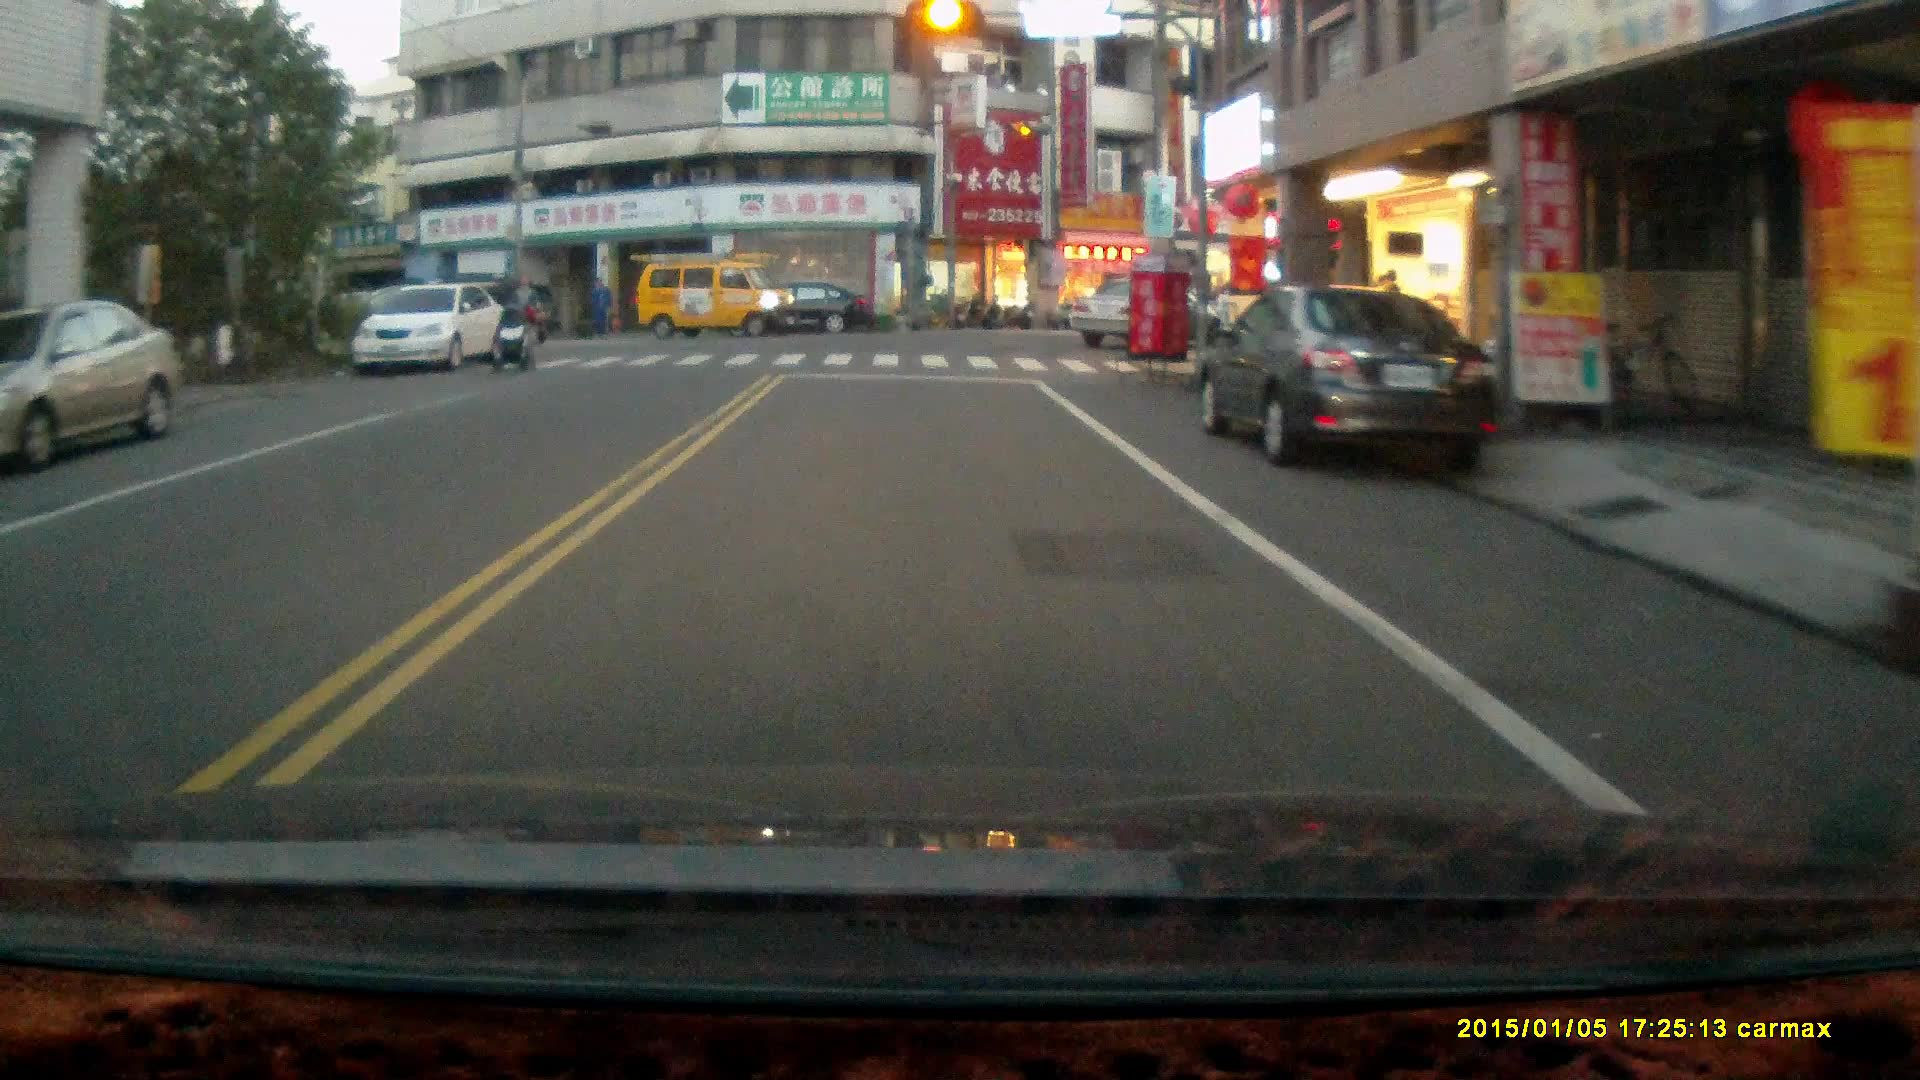pedestrian: (508, 270, 538, 353), (587, 275, 610, 335)
rider: (488, 304, 542, 375)
vehicle: (1196, 285, 1504, 476), (1, 300, 186, 478), (355, 283, 507, 378), (635, 252, 802, 337), (1063, 276, 1205, 350), (736, 281, 870, 337)
